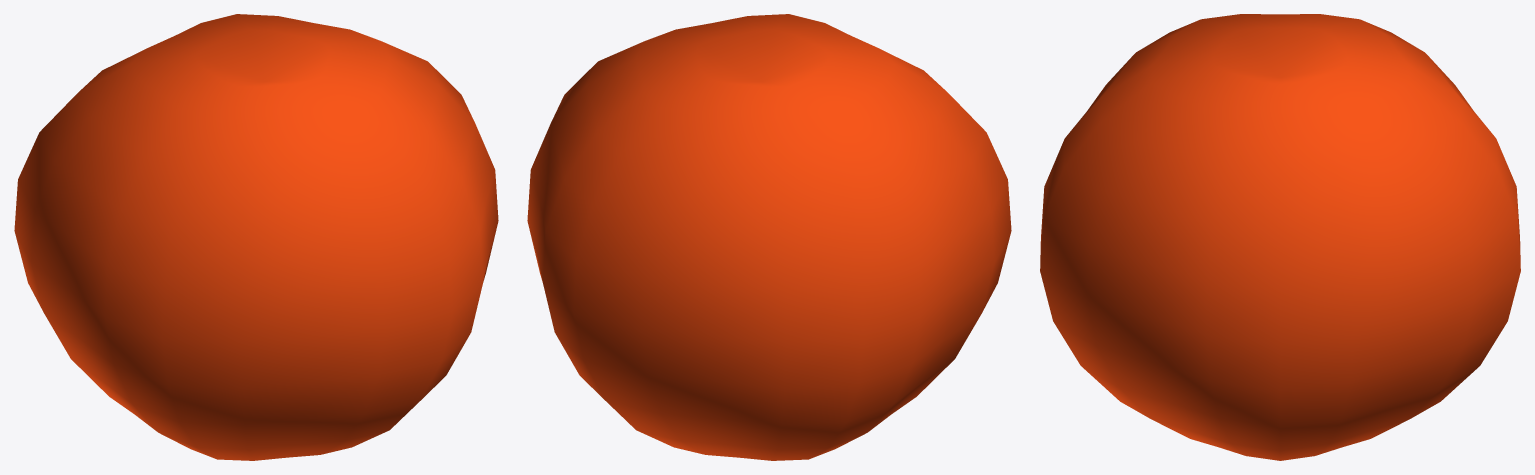
Rendered from apple_blushing.dae.
The picture shows the model from 3 angles, left to right: view 1: azimuth 30°, elevation 25°; view 2: azimuth 150°, elevation 25°; view 3: azimuth 270°, elevation 25°; orthographic projection.
Visible parts, largest first — view 1: Tree; view 2: Tree; view 3: Tree.
Boxes of the visible parts, x1,y1,x2,y2 form: Tree: [14, 14, 498, 460]; Tree: [527, 14, 1011, 460]; Tree: [1040, 14, 1520, 460].
Bounding box in the file's own units: 2.01 × 2.01 × 1.71.
